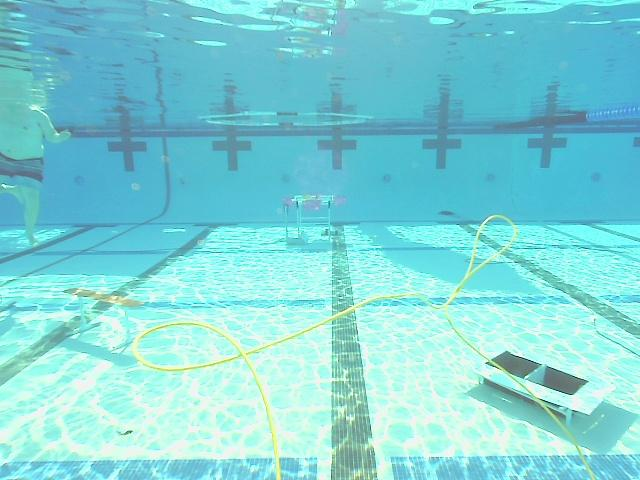dropper: (474, 350, 623, 423)
table: (283, 192, 346, 251)
